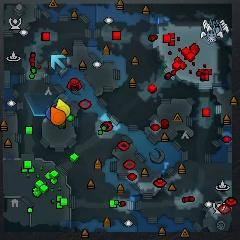p1: (45, 103, 56, 120)
p4: (56, 98, 71, 117)
p5: (50, 106, 66, 125)
x3: (50, 54, 66, 70)
